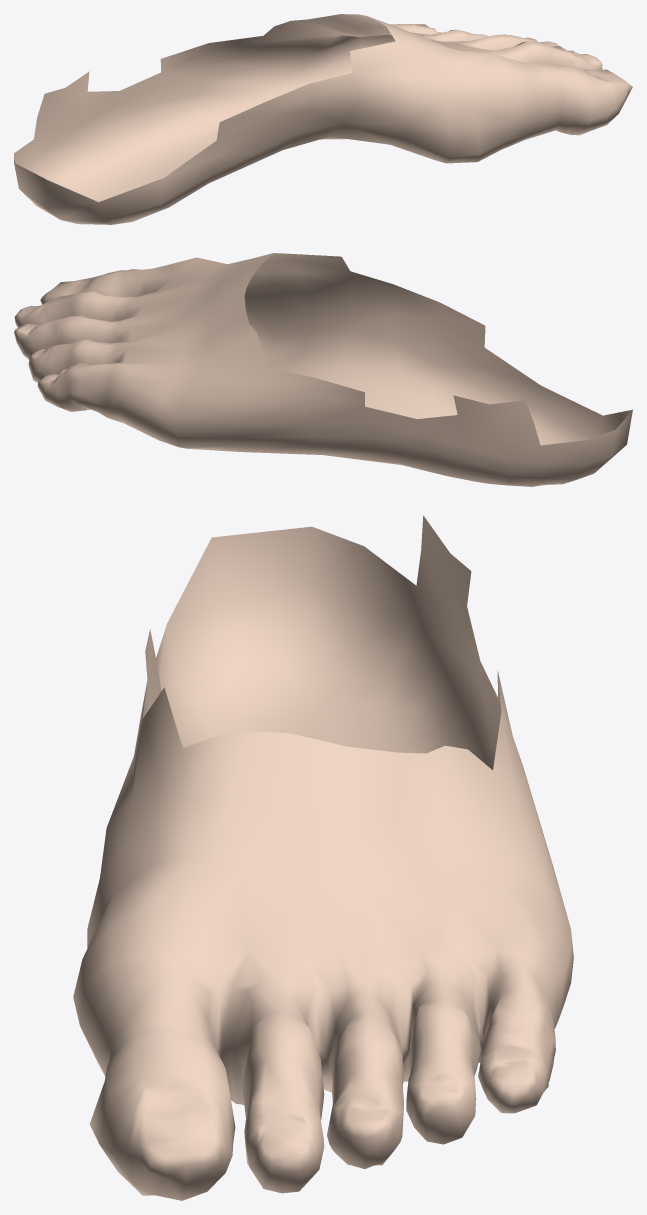
The model's file is human_leftfoot.dae.
The picture shows the model from 3 angles, top to bottom: view 1: azimuth 30°, elevation 25°; view 2: azimuth 150°, elevation 25°; view 3: azimuth 270°, elevation 25°; orthographic projection. The views are drawn at different scales.
Visible parts, largest first — view 1: frank_skeleton-base; view 2: frank_skeleton-base; view 3: frank_skeleton-base.
Boxes of the visible parts, x1,y1,x2,y2 form: frank_skeleton-base: (14, 14, 632, 224); frank_skeleton-base: (14, 253, 632, 486); frank_skeleton-base: (73, 515, 573, 1200).
Bounding box in the file's own units: 0.271 × 0.1015 × 0.0616.
